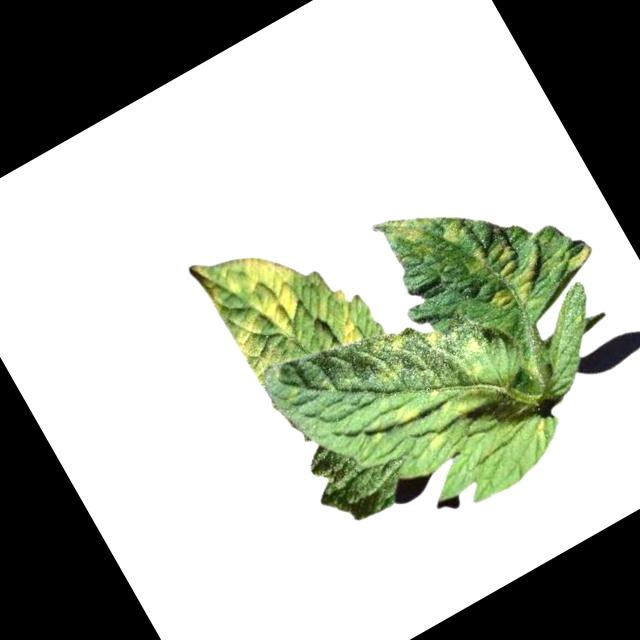Leaf_Mold: (185, 219, 335, 385), (460, 218, 556, 315), (371, 198, 448, 274), (356, 320, 425, 388), (318, 280, 371, 345), (415, 416, 457, 457), (554, 235, 598, 273), (439, 212, 473, 247), (392, 397, 426, 429)
